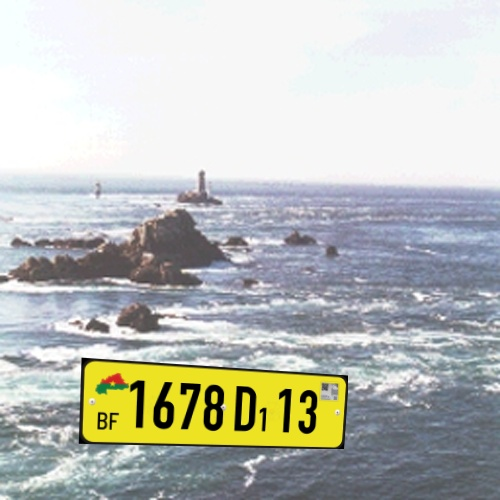plate: (69, 339, 360, 468)
